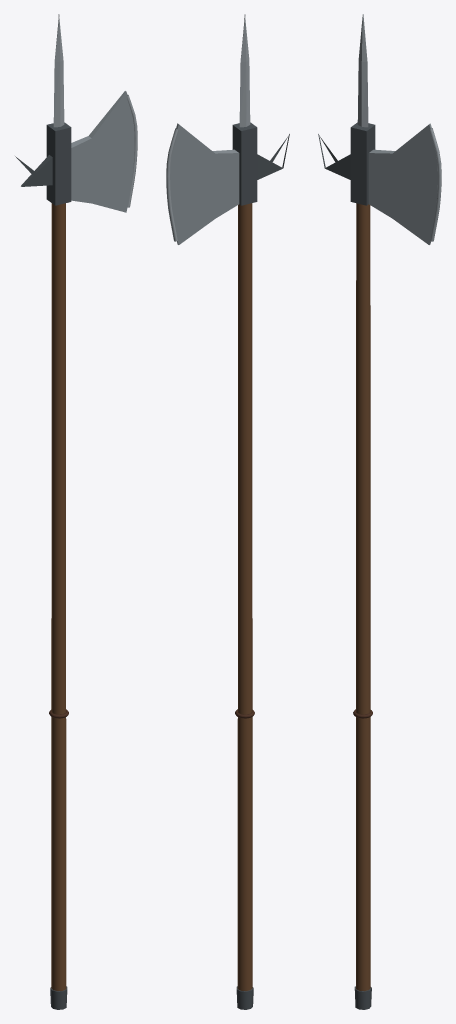
File: halberd.glb
3 renders of one model, left to right at view 1: azimuth 30°, elevation 25°; view 2: azimuth 210°, elevation 25°; view 3: azimuth 330°, elevation 25°, orthographic.
Parts seen in each view (by area): view 1: halberd-shaft, halberd-axe-head, halberd-socket, halberd-top-spike, halberd-hook, halberd-edge, halberd-butt-cap; view 2: halberd-shaft, halberd-axe-head, halberd-socket, halberd-top-spike, halberd-edge, halberd-hook, halberd-butt-cap; view 3: halberd-shaft, halberd-axe-head, halberd-socket, halberd-top-spike, halberd-hook, halberd-edge, halberd-butt-cap.
Part boxes in pixels (box(x1,y1,x2,y2)): halberd-shaft: box(51, 203, 66, 990); halberd-axe-head: box(71, 91, 134, 212); halberd-socket: box(46, 122, 71, 205); halberd-top-spike: box(53, 14, 64, 127); halberd-hook: box(15, 155, 52, 186); halberd-edge: box(127, 95, 137, 207); halberd-butt-cap: box(50, 986, 67, 1009); halberd-shaft: box(237, 203, 252, 990); halberd-axe-head: box(170, 123, 239, 244); halberd-socket: box(232, 122, 257, 205); halberd-top-spike: box(239, 14, 250, 127); halberd-edge: box(166, 128, 178, 241); halberd-hook: box(257, 134, 289, 179); halberd-butt-cap: box(236, 986, 253, 1009); halberd-shaft: box(356, 203, 370, 991); halberd-axe-head: box(368, 123, 437, 244); halberd-socket: box(350, 122, 375, 205); halberd-top-spike: box(357, 14, 368, 127); halberd-hook: box(318, 134, 350, 179); halberd-edge: box(429, 128, 441, 241); halberd-butt-cap: box(354, 986, 371, 1009).
Bounding box in the file's own units: 0.2148 × 1.66 × 0.0307.
